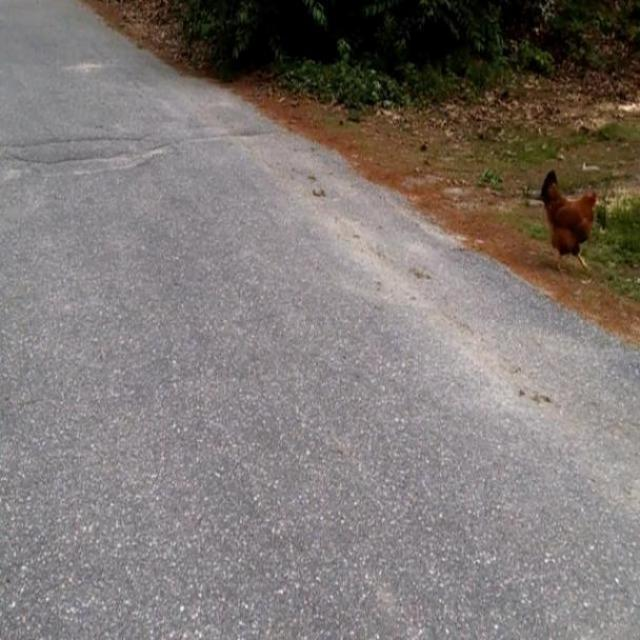Chicken: (540, 170, 599, 274)
